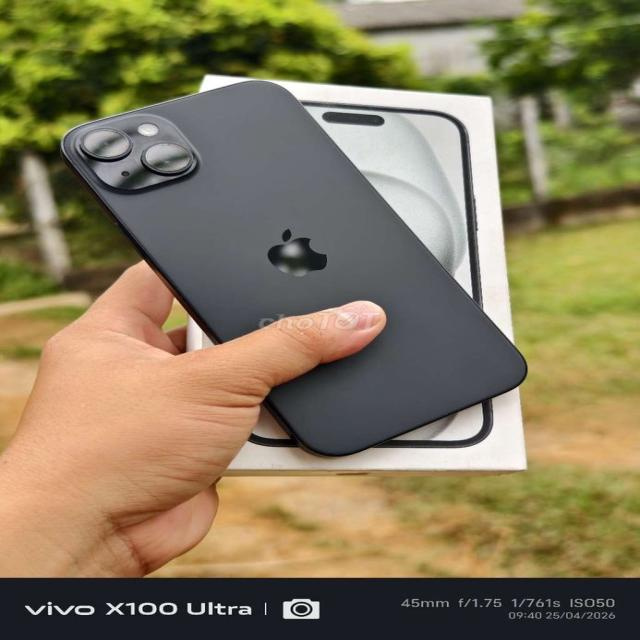gen_15: (41, 75, 541, 465)
